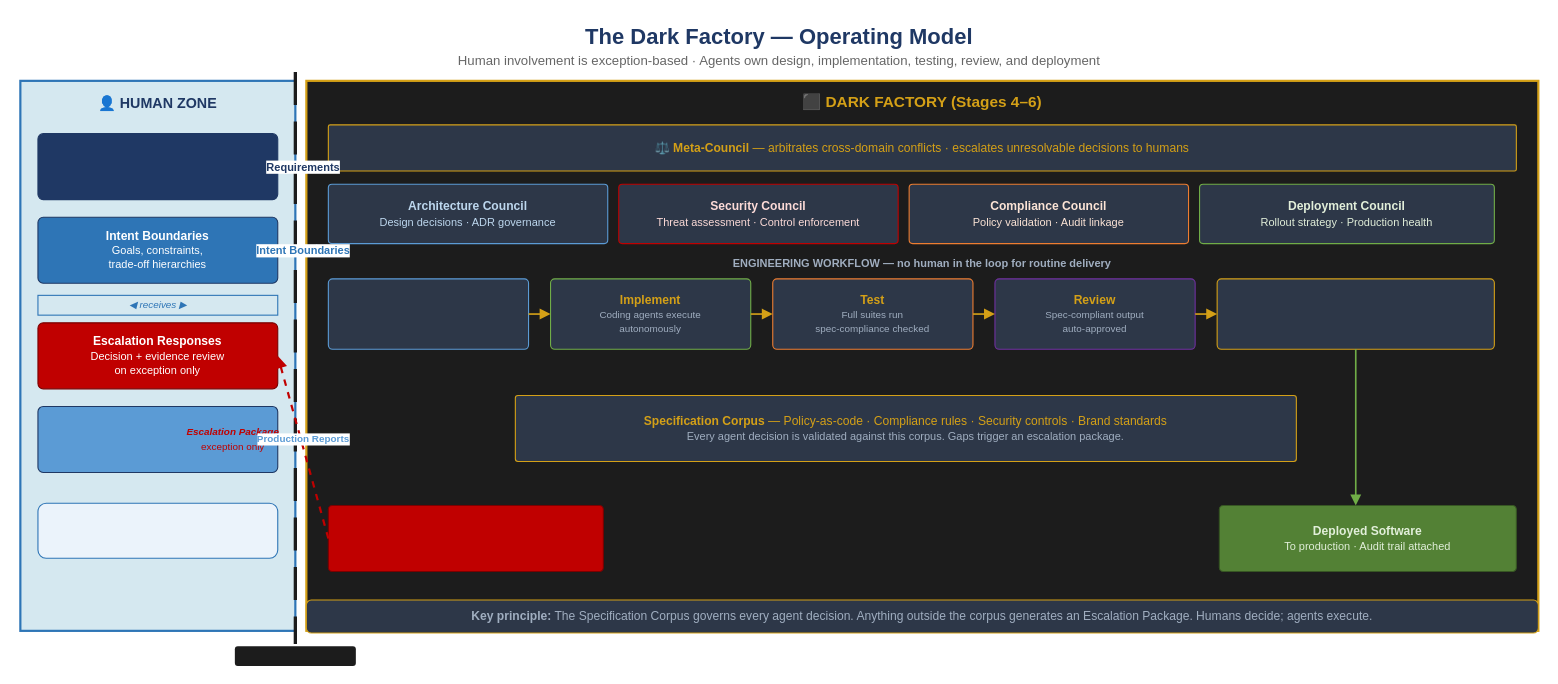
The diagram is 1558 pixels wide and 684 high, and some of its shapes have lost their labels. Here are the shapes that lost their labels. From the top down, the box of each, then its label:
(37, 133, 278, 200): Requirements Structured, intent-annotated, agent-consumable
(327, 278, 529, 349): Design Agent Council proposes architecture options
(1216, 278, 1494, 349): Deploy Progressive rollout auto-monitored
(37, 405, 278, 472): Production Reports Summary telemetry (no action required)
(37, 502, 278, 558): Human involvement is exception-based, not process-based
(327, 504, 603, 571): Escalation Package Sent to human when decision exceeds agent authority
(234, 646, 355, 666): ◀ BOUNDARY ▶
